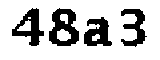3: (116, 4, 151, 53)
4: (11, 7, 47, 48)
8: (48, 7, 79, 52)
a: (80, 11, 114, 51)
